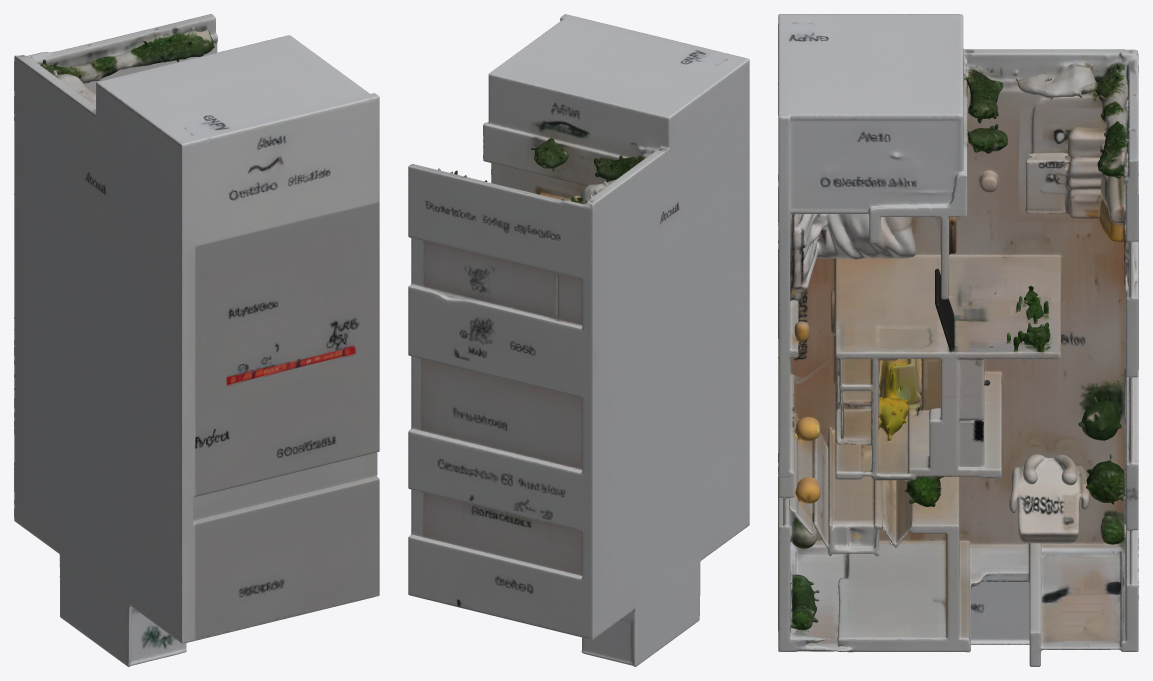
File: tripo-model-aacf7888-00bf-42cc-8777-0d509b83d17f.glb
3 renders of one model, left to right at view 1: azimuth 30°, elevation 25°; view 2: azimuth 150°, elevation 25°; view 3: azimuth 270°, elevation 25°, orthographic. The views are drawn at different scales.
Visible parts, largest first — view 1: tripo_node_aacf7888-00bf-42cc-8777-0d509b83d17f; view 2: tripo_node_aacf7888-00bf-42cc-8777-0d509b83d17f; view 3: tripo_node_aacf7888-00bf-42cc-8777-0d509b83d17f.
Part boxes in pixels (x1,y1,x2,y2): tripo_node_aacf7888-00bf-42cc-8777-0d509b83d17f: [14, 14, 379, 666]; tripo_node_aacf7888-00bf-42cc-8777-0d509b83d17f: [408, 14, 749, 666]; tripo_node_aacf7888-00bf-42cc-8777-0d509b83d17f: [778, 14, 1138, 666].
Bounding box in the file's own units: 0.3765 × 1 × 0.5427.
Materials: 1 (1 with a texture image).
